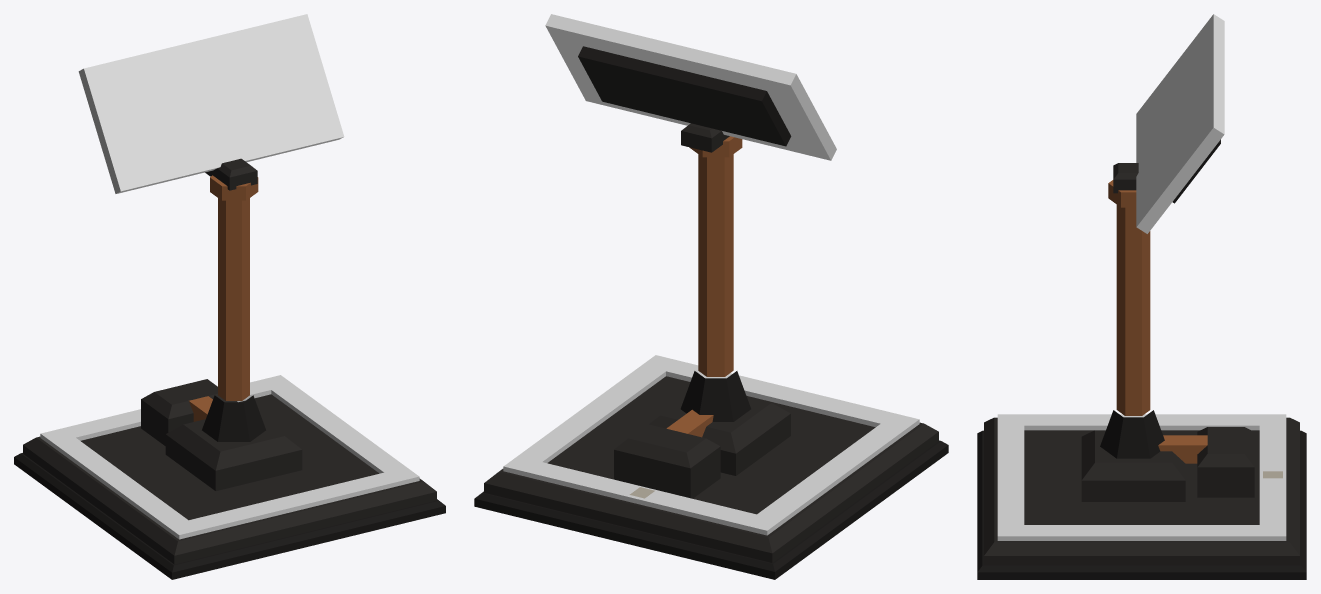
File: str_t1_radar.6eb7fe2b.raw.glb
The picture shows the model from 3 angles, left to right: view 1: azimuth 30°, elevation 25°; view 2: azimuth 150°, elevation 25°; view 3: azimuth 270°, elevation 25°; orthographic projection. The views are drawn at different scales.
Parts seen in each view (by area): view 1: lod0; view 2: lod0; view 3: lod0.
Boxes of the visible parts, <box> form: lod0: <box>14,14,445,579</box>; lod0: <box>474,14,948,579</box>; lod0: <box>977,14,1306,579</box>.
Size of what is drawn, in the model's own units: 1.96 by 2.89 by 1.96.
